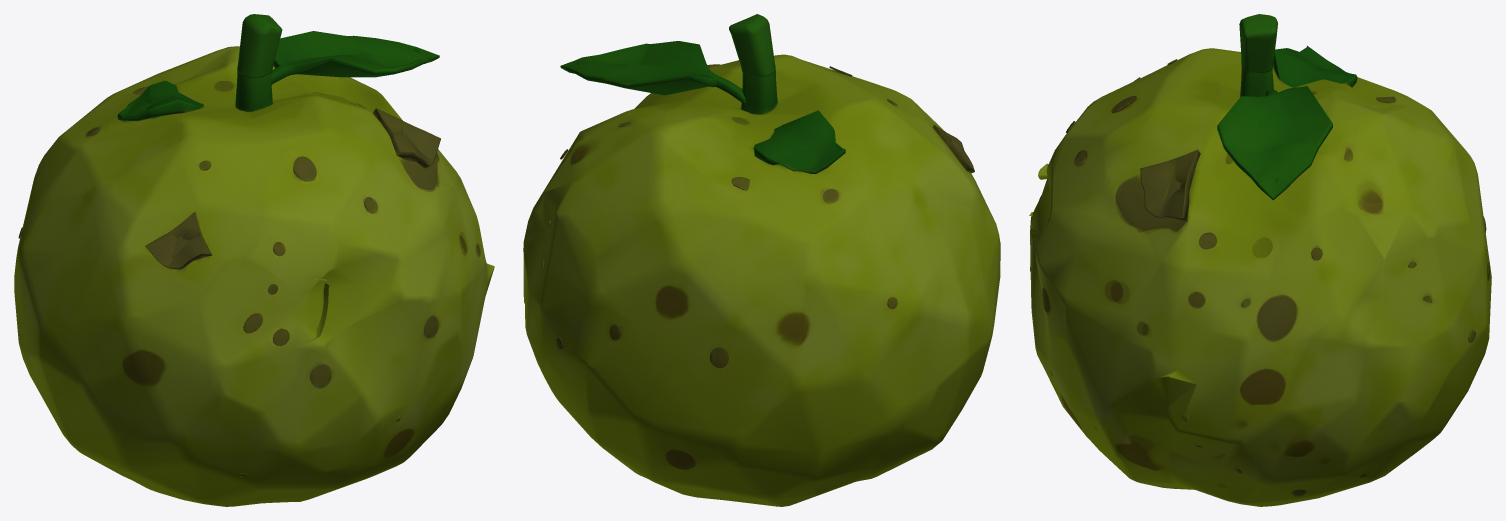
File: fruit2-rot.glb
3 renders of one model, left to right at view 1: azimuth 30°, elevation 25°; view 2: azimuth 150°, elevation 25°; view 3: azimuth 270°, elevation 25°, orthographic.
Parts seen in each view (by area): view 1: tripo_node_68eb5c06-ffff-44ba-98c6-10b68fa09348; view 2: tripo_node_68eb5c06-ffff-44ba-98c6-10b68fa09348; view 3: tripo_node_68eb5c06-ffff-44ba-98c6-10b68fa09348.
Boxes of the visible parts, bbox=[...] form: tripo_node_68eb5c06-ffff-44ba-98c6-10b68fa09348: bbox=[14, 14, 494, 506]; tripo_node_68eb5c06-ffff-44ba-98c6-10b68fa09348: bbox=[523, 14, 1000, 506]; tripo_node_68eb5c06-ffff-44ba-98c6-10b68fa09348: bbox=[1029, 14, 1491, 506].
Size of the model in its own units: 0.979 by 0.9995 by 0.9302.
1 material, 1 textured.
